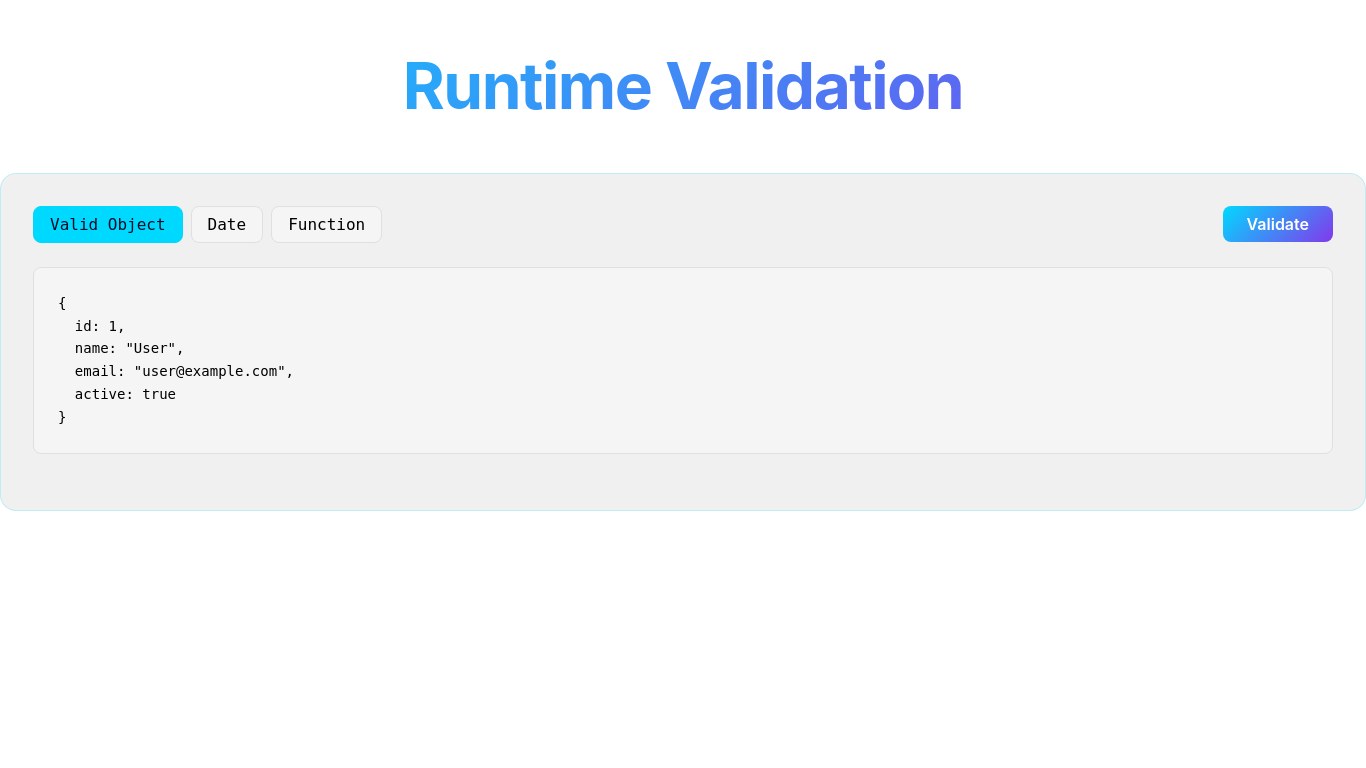
RuntimeDemo › validation behavior › should show success message when Valid Object is selected and validated
This screenshot has width=1366, height=768.
Click the button "Valid Object". click: coordinates (108, 224)
box: [33,206,183,243]
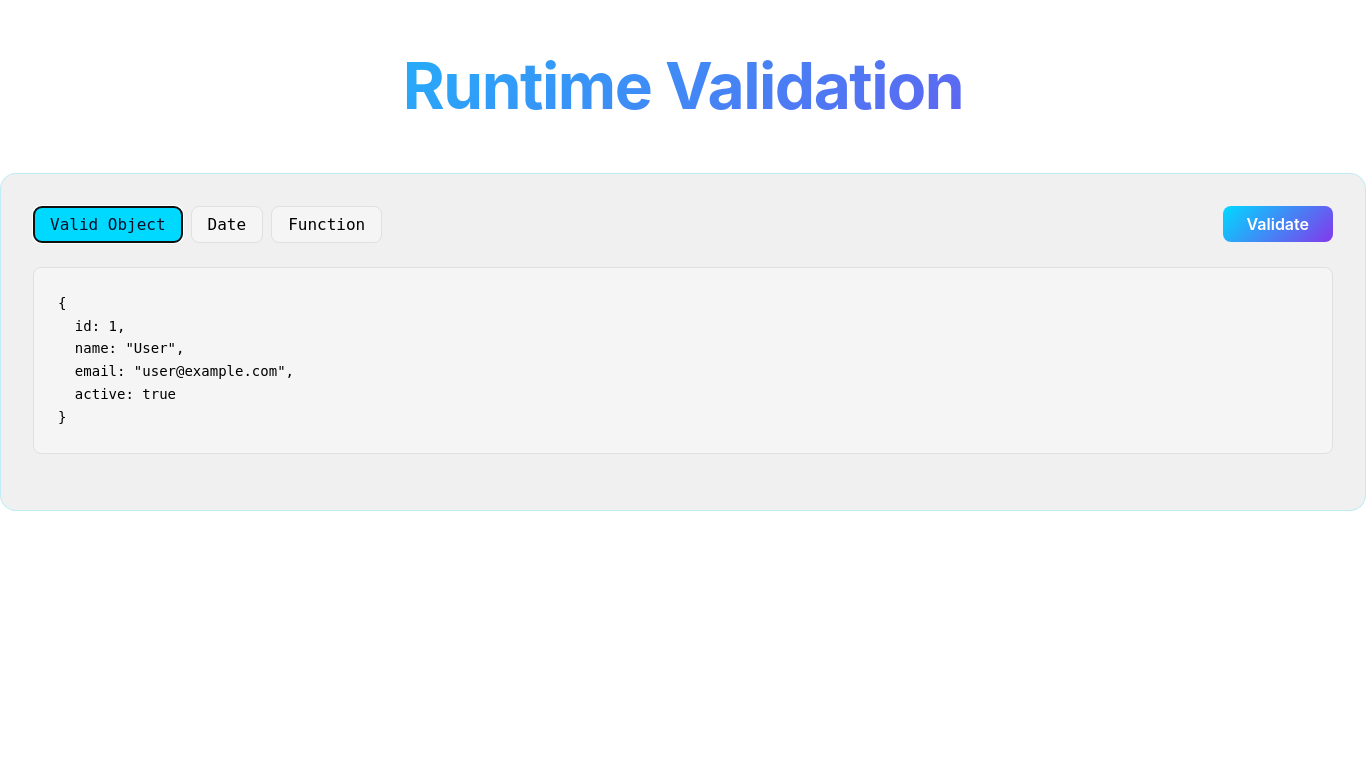
Click the button "Validate". click: coordinates (1278, 224)
box: [1223,206,1333,242]
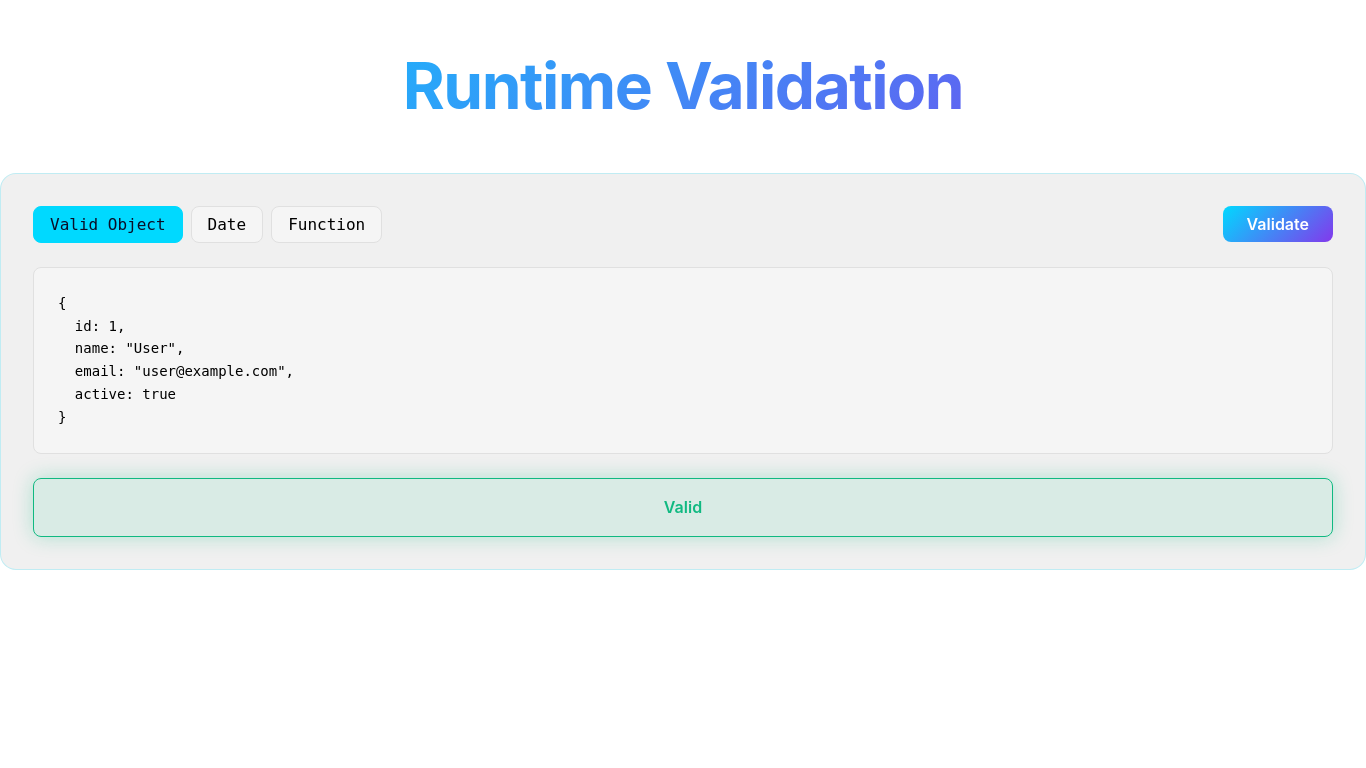
Result: the text with test id "validation-success" reads "Valid" at [664,497,702,517]
Result: the text "Valid" is shown at [33,478,1333,537]
